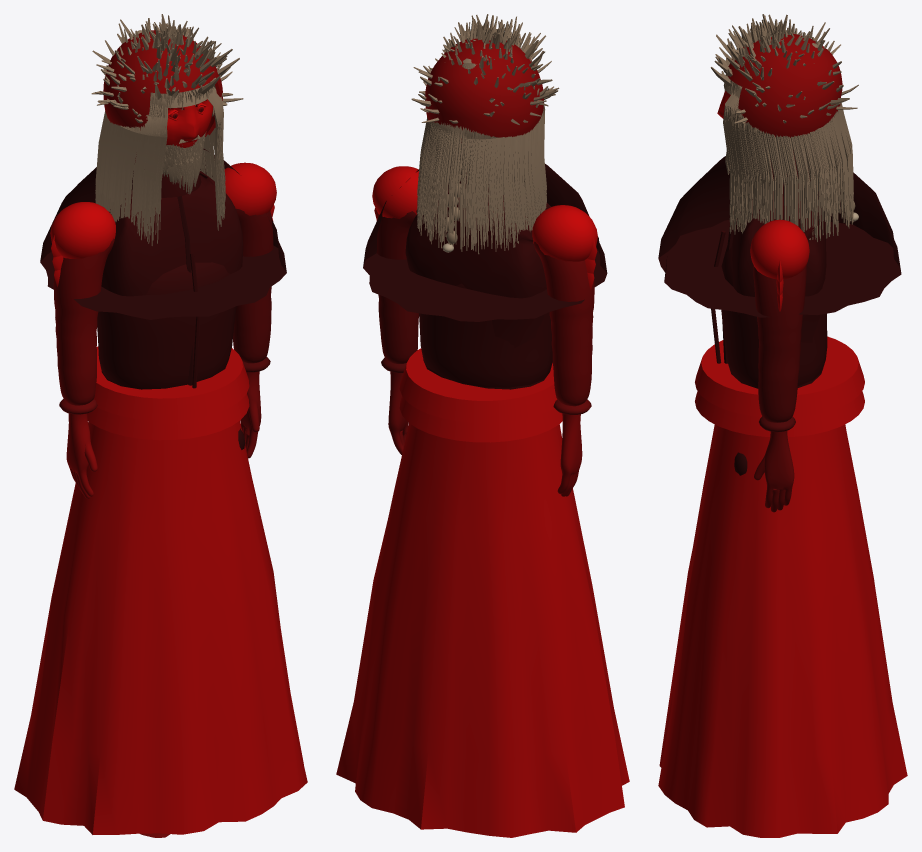
The model's file is character.glb.
3 views of the same model, side by side, from view 1: azimuth 30°, elevation 25°; view 2: azimuth 150°, elevation 25°; view 3: azimuth 270°, elevation 25° (orthographic).
Visible parts, largest first — view 1: robe, plates, tunic, hood, hair_2, hair_5, skin, beard_2, belt; view 2: robe, plates, tunic, hood, hair_2, hair_5, skin, belt; view 3: robe, hood, plates, hair_2, tunic, hair_5, skin, belt.
Part boxes in pixels (x1,y1,x2,y2): robe: [14, 420, 307, 834]; plates: [50, 162, 276, 440]; tunic: [53, 154, 273, 405]; hood: [40, 30, 286, 319]; hair_2: [95, 87, 225, 245]; hair_5: [91, 14, 243, 123]; skin: [66, 99, 261, 498]; beard_2: [162, 134, 204, 194]; belt: [59, 356, 270, 449]; robe: [336, 423, 629, 837]; plates: [372, 166, 597, 442]; tunic: [376, 172, 594, 406]; hood: [363, 38, 607, 321]; hair_2: [417, 106, 546, 254]; hair_5: [411, 14, 559, 124]; skin: [388, 371, 582, 496]; belt: [381, 357, 591, 414]; robe: [658, 424, 907, 837]; hood: [658, 33, 901, 317]; plates: [695, 219, 864, 436]; hair_2: [723, 89, 853, 241]; tunic: [722, 166, 826, 422]; hair_5: [710, 14, 858, 123]; skin: [717, 90, 796, 512]; belt: [734, 416, 795, 475].
Size of the model in its own units: 0.6959 by 2.02 by 0.5854.
